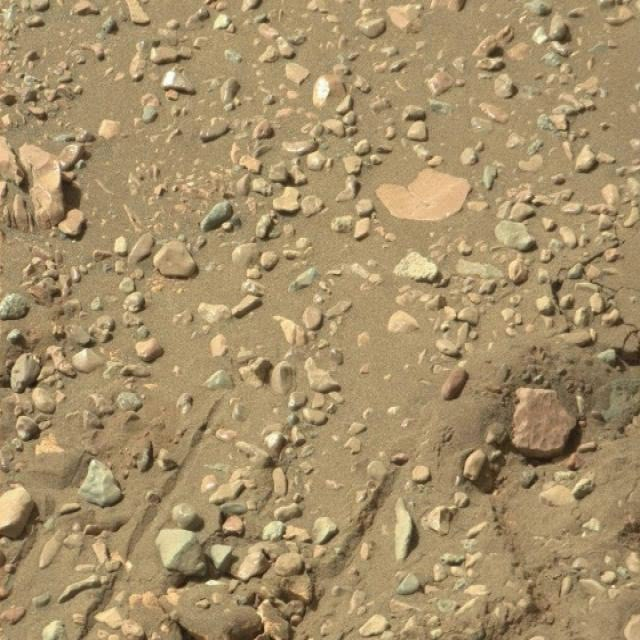rock: (510, 387, 577, 459), (16, 142, 62, 228), (156, 529, 207, 578), (0, 487, 35, 538), (292, 584, 322, 618), (227, 621, 274, 640), (168, 618, 204, 640), (271, 588, 300, 608), (86, 592, 105, 618), (526, 586, 542, 615), (282, 614, 299, 640), (500, 616, 523, 635)
